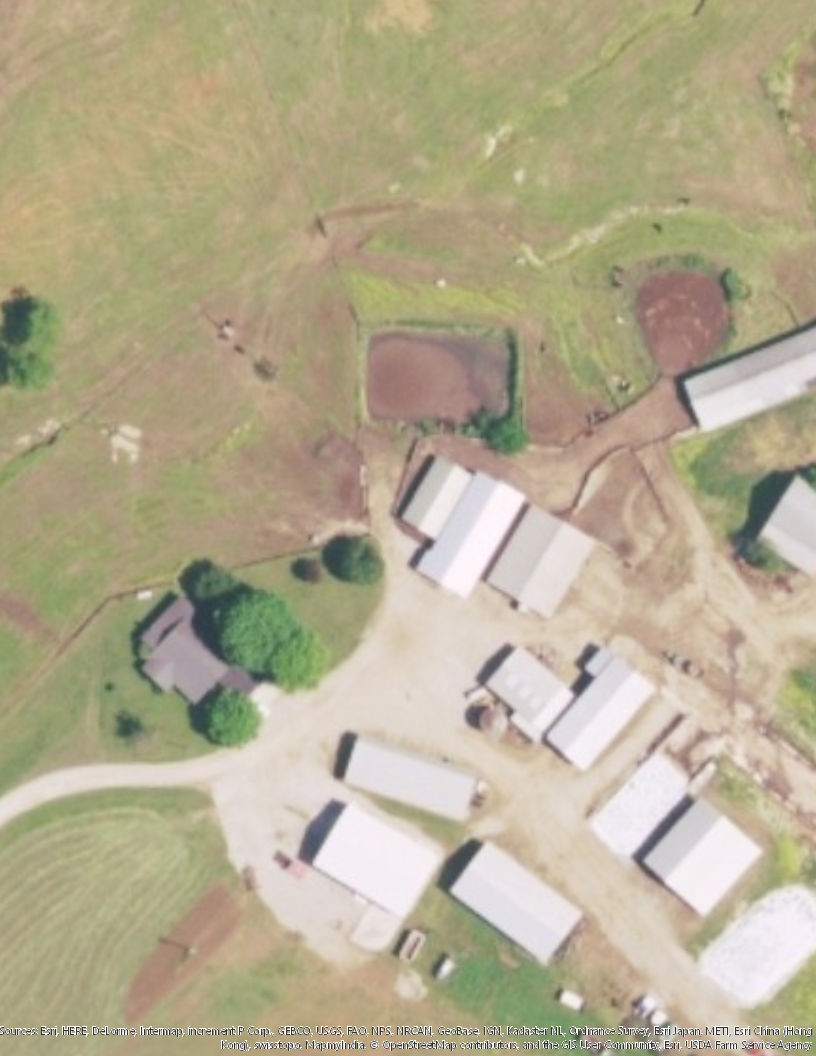cafo: (395, 451, 603, 621), (437, 831, 593, 975), (295, 797, 453, 925), (663, 309, 816, 436), (495, 634, 650, 758), (644, 776, 767, 916), (344, 727, 494, 826), (738, 459, 816, 595)
